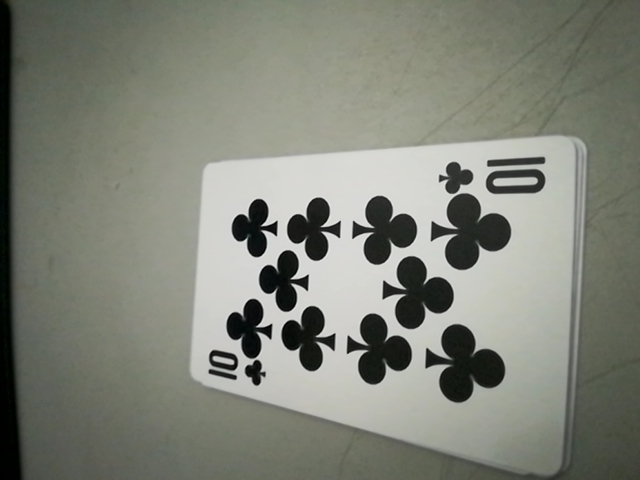mh 10: (437, 151, 556, 199), (202, 350, 269, 394)
